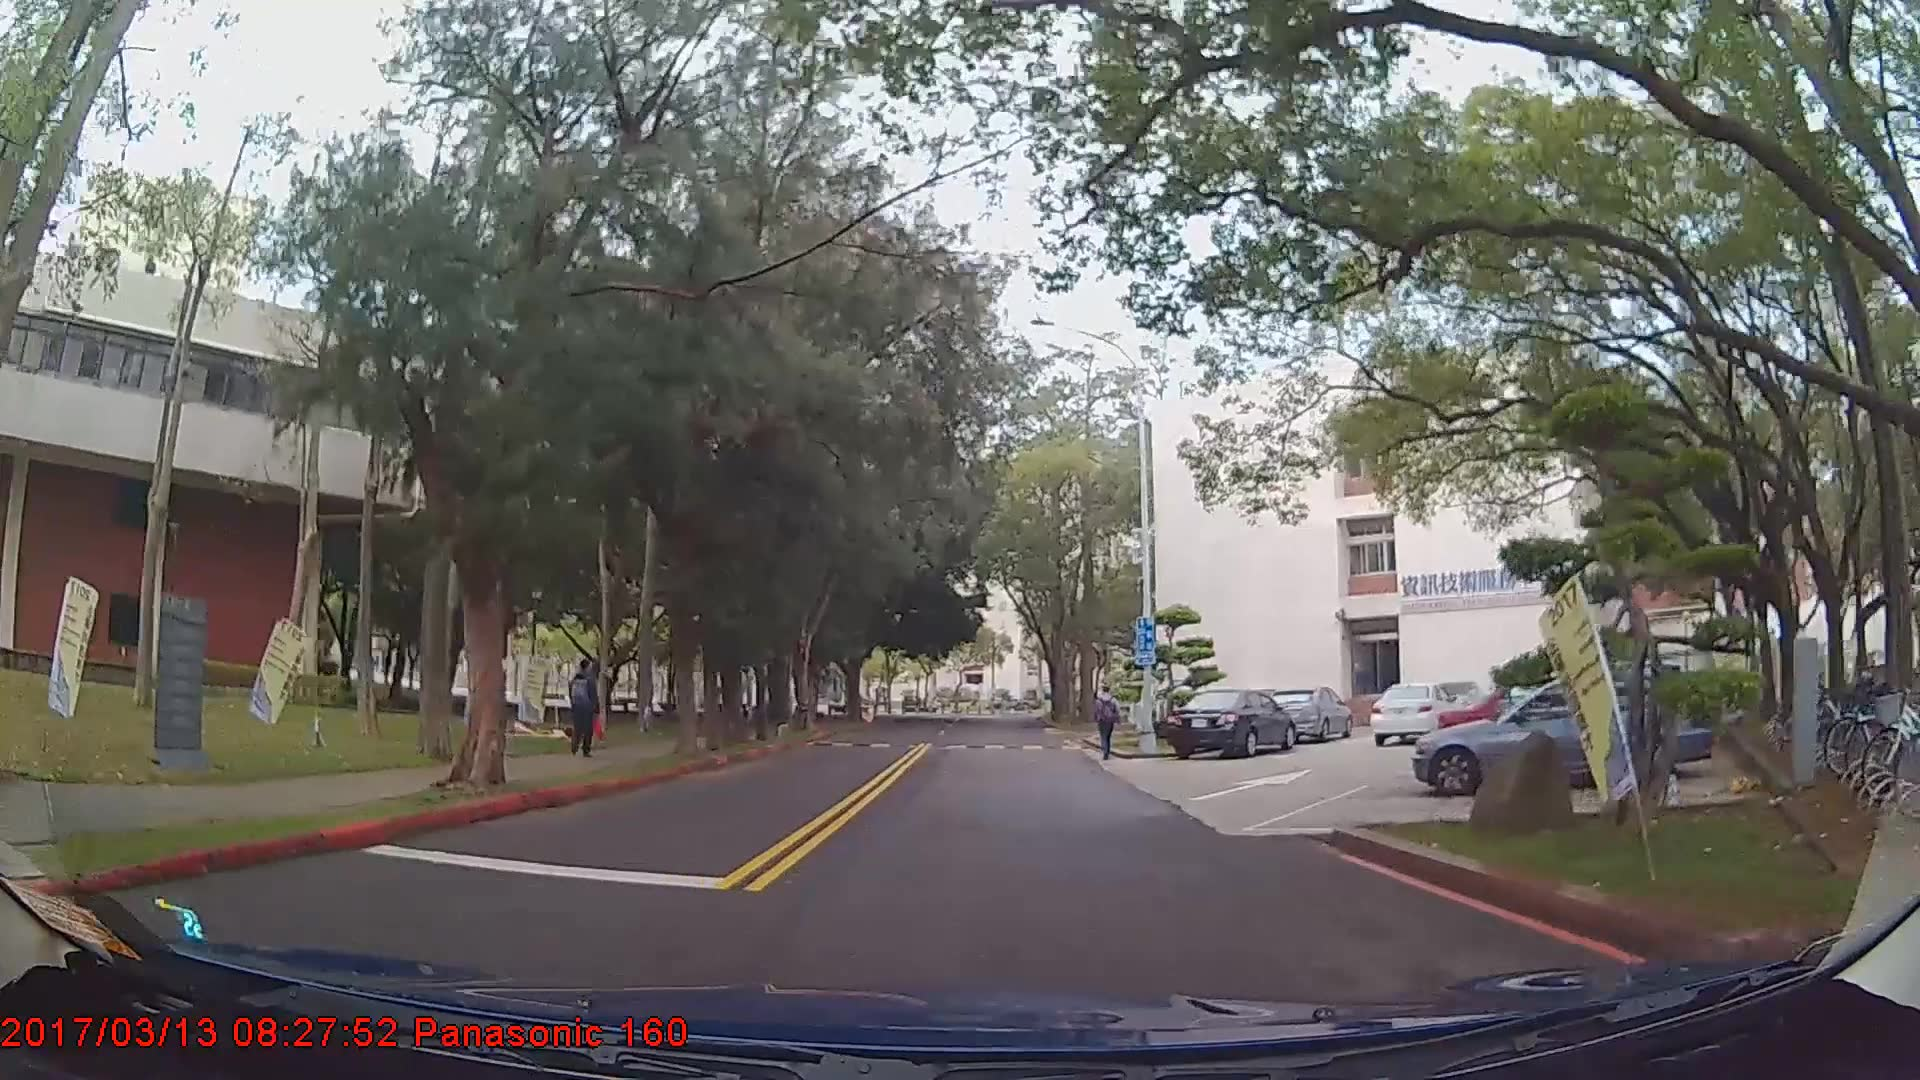pedestrian: (566, 658, 600, 756), (1093, 687, 1122, 763)
vehicle: (1409, 670, 1713, 800), (1164, 683, 1297, 756), (1366, 679, 1454, 744), (1271, 683, 1353, 742)
